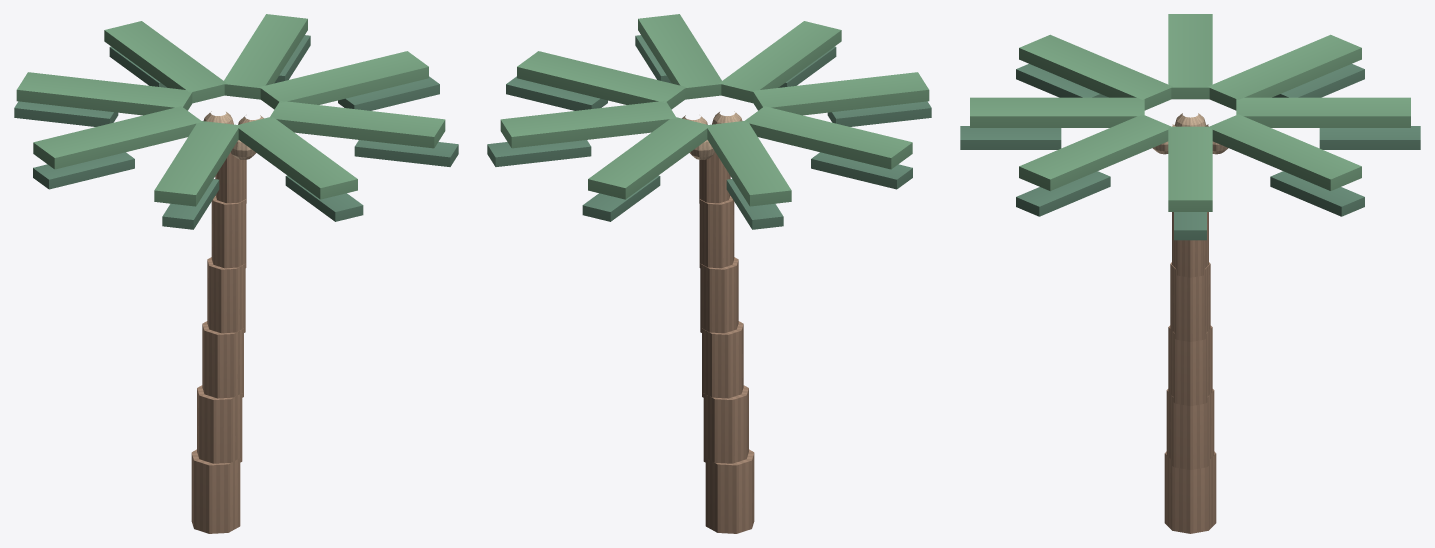
The model's file is palm_tree.glb.
3 views of the same model, side by side, from view 1: azimuth 30°, elevation 25°; view 2: azimuth 150°, elevation 25°; view 3: azimuth 270°, elevation 25° (orthographic).
Parts seen in each view (by area): view 1: palm_tree; view 2: palm_tree; view 3: palm_tree.
Boxes of the visible parts, x1,y1,x2,y2 form: palm_tree: (14, 14, 458, 533); palm_tree: (487, 14, 931, 533); palm_tree: (960, 14, 1420, 533).
Size of the model in its own units: 5.02 by 5.09 by 5.01.
Materials: 1 (1 with a texture image).
